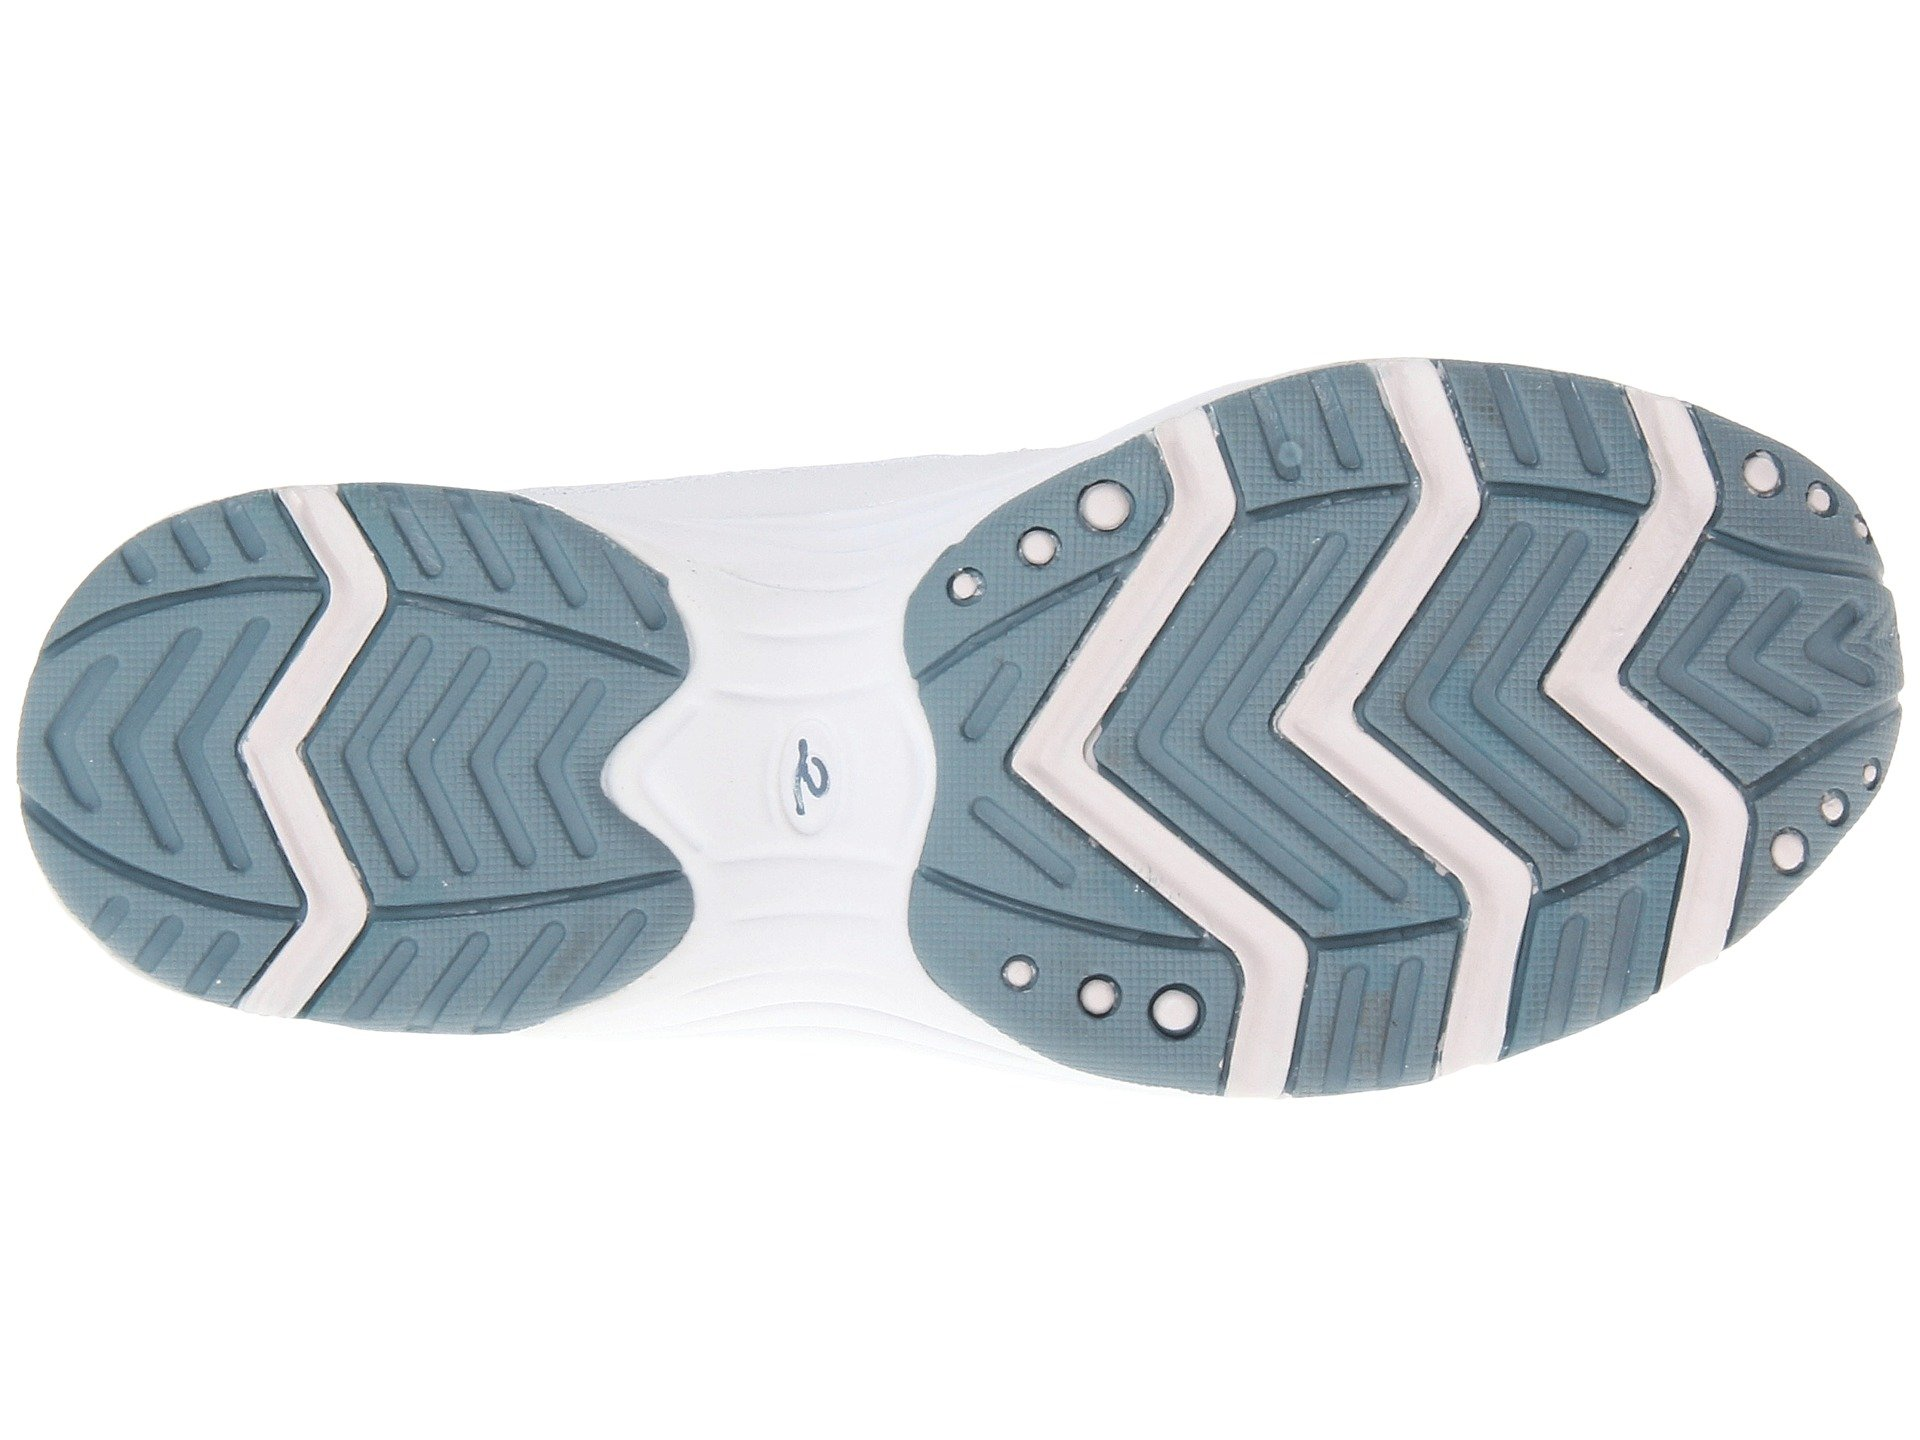chevron: (1297, 242, 1541, 473), (1033, 295, 1284, 505), (1612, 404, 1847, 597), (1577, 21, 1779, 231), (336, 315, 547, 514), (348, 309, 550, 490), (1359, 492, 1583, 643), (1613, 228, 1804, 396), (218, 478, 389, 647), (225, 138, 392, 306), (65, 295, 221, 464), (48, 321, 201, 484)
circle: (1612, 404, 1847, 597), (1577, 21, 1779, 231), (745, 330, 857, 499), (1058, 604, 1170, 712), (1054, 119, 1132, 195)
line: (1612, 404, 1847, 597), (1577, 21, 1779, 231), (1359, 492, 1583, 643), (218, 478, 389, 647), (225, 138, 392, 306)
text: (745, 330, 857, 499)
